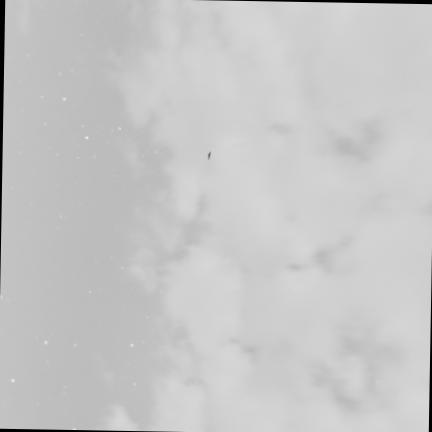Shahed: (207, 152, 209, 158)
